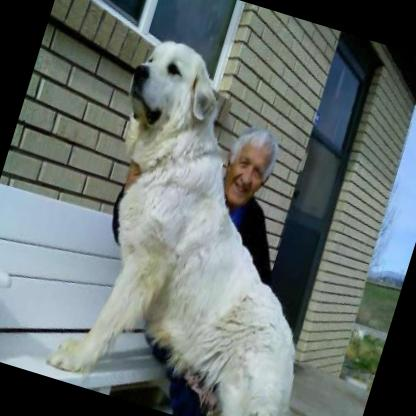Great_Pyrenees: (39, 29, 411, 416)
